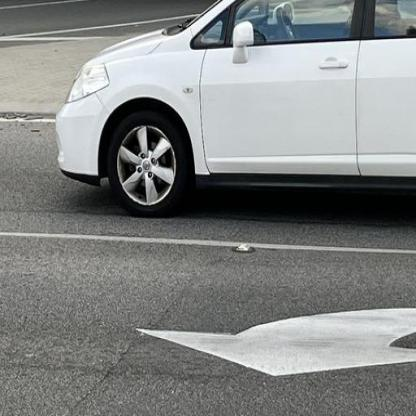Tire: (106, 108, 191, 219)
